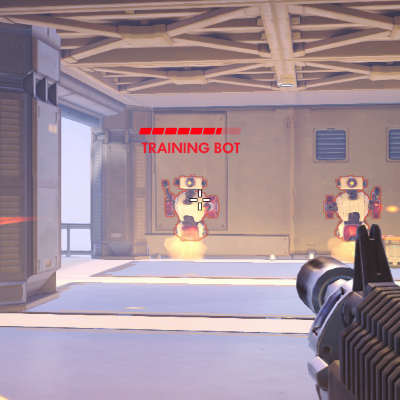hpbar: (138, 127, 242, 135)
